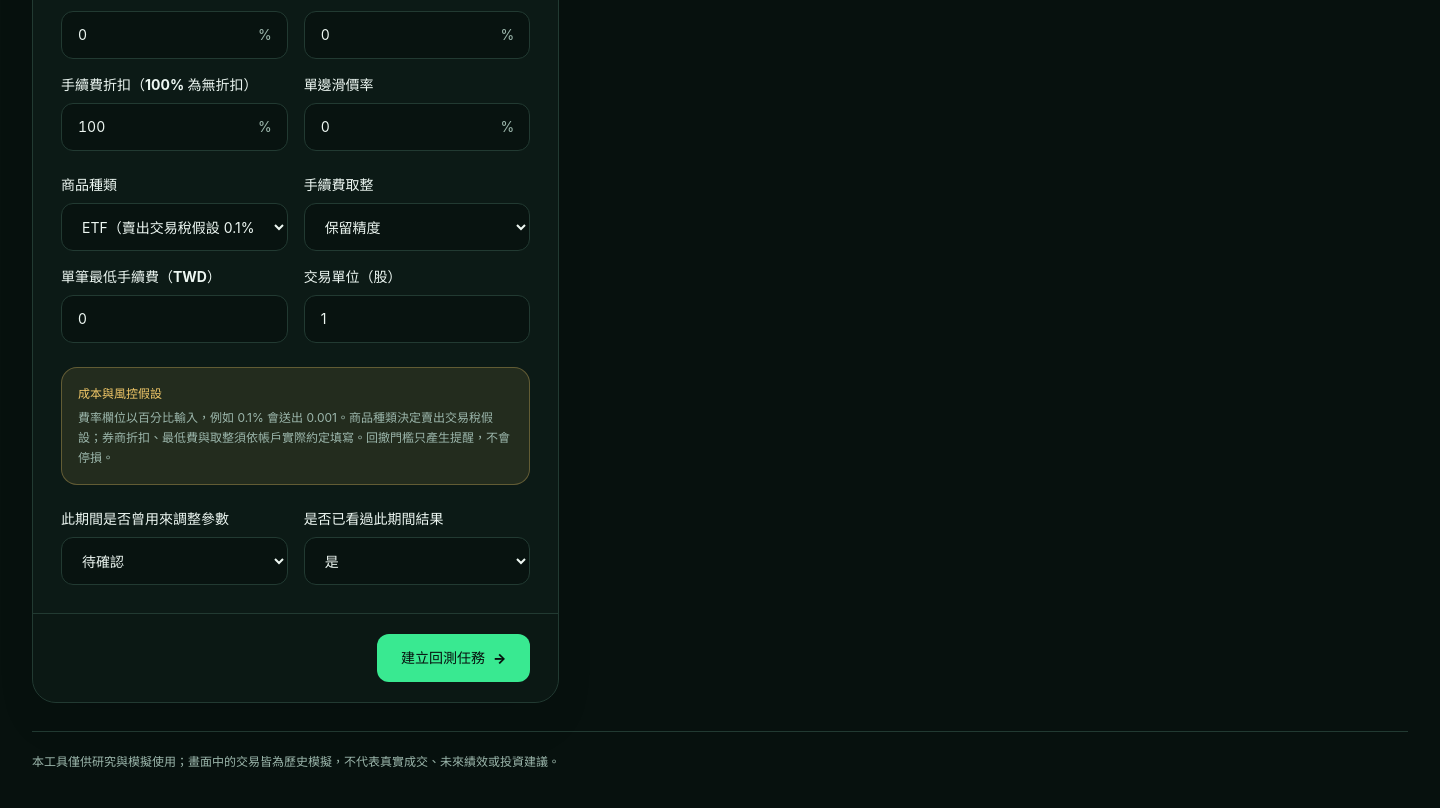
Scenario: App › 建立任務、輪詢狀態並顯示 Python 回測結果
The width and height of the screenshot is (1440, 808).
(page scrolled)
Click the button "建立回測任務 →".
click(454, 658)  # box [377,634,530,682]
(page scrolled)
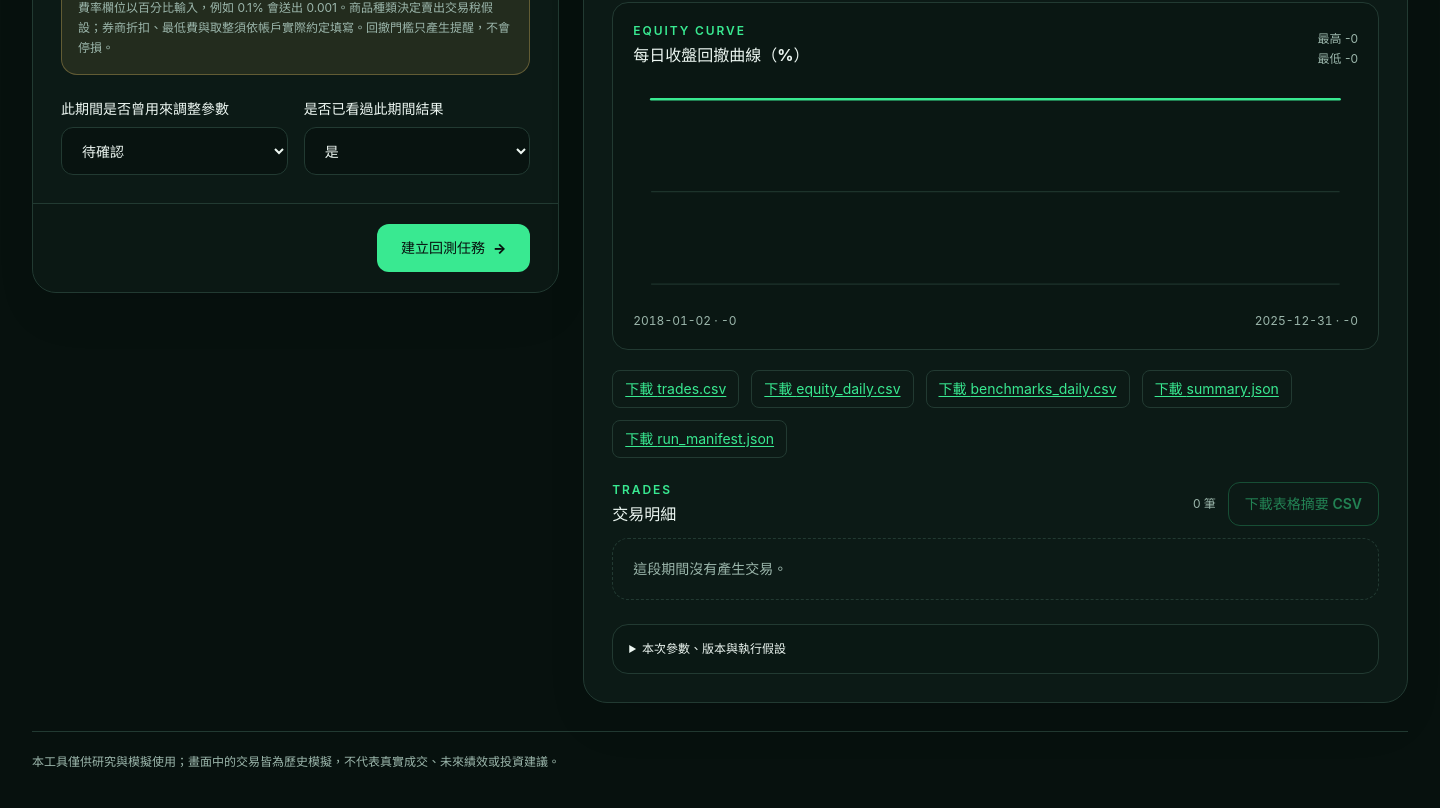
Check: the text "這段期間沒有產生交易。" is shown, box [612,538,1379,600]
Check: the button "下載表格摘要 CSV" is disabled, box [1228,482,1379,526]
